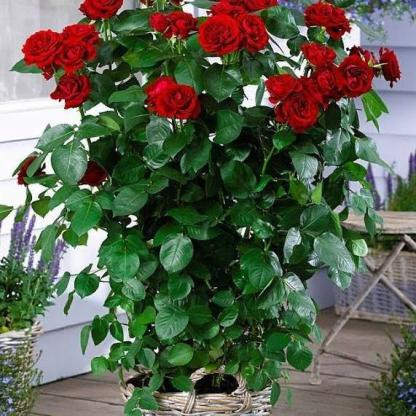Rose-Mawar: (18, 1, 122, 111), (299, 1, 408, 103), (143, 5, 268, 60), (265, 69, 330, 128), (144, 73, 211, 126)
